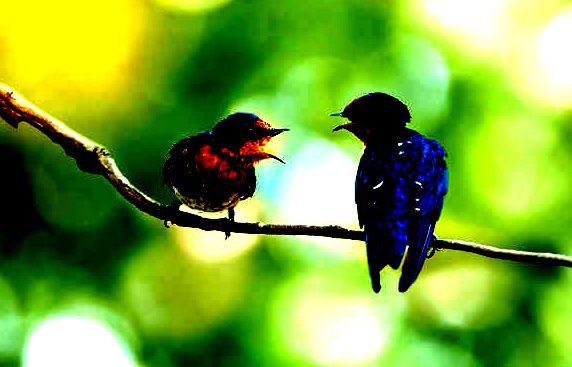Bird: (325, 91, 448, 295), (156, 107, 289, 244)
